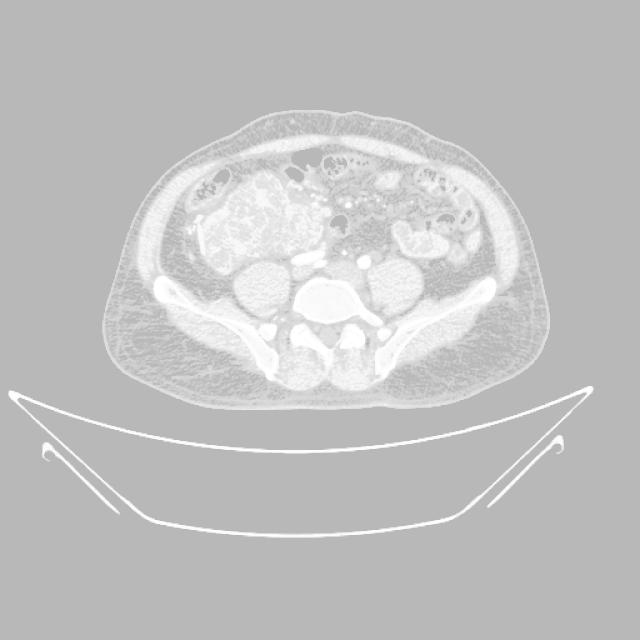TUMOR: (116, 118, 523, 288)
